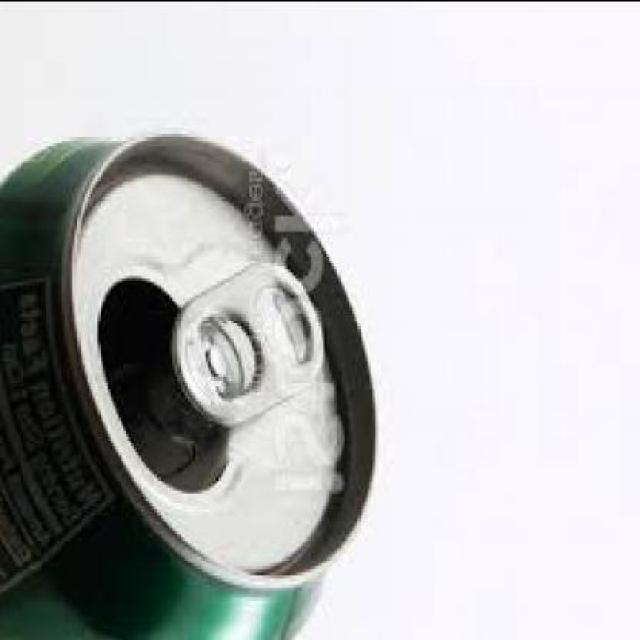metal: (2, 132, 384, 638)
